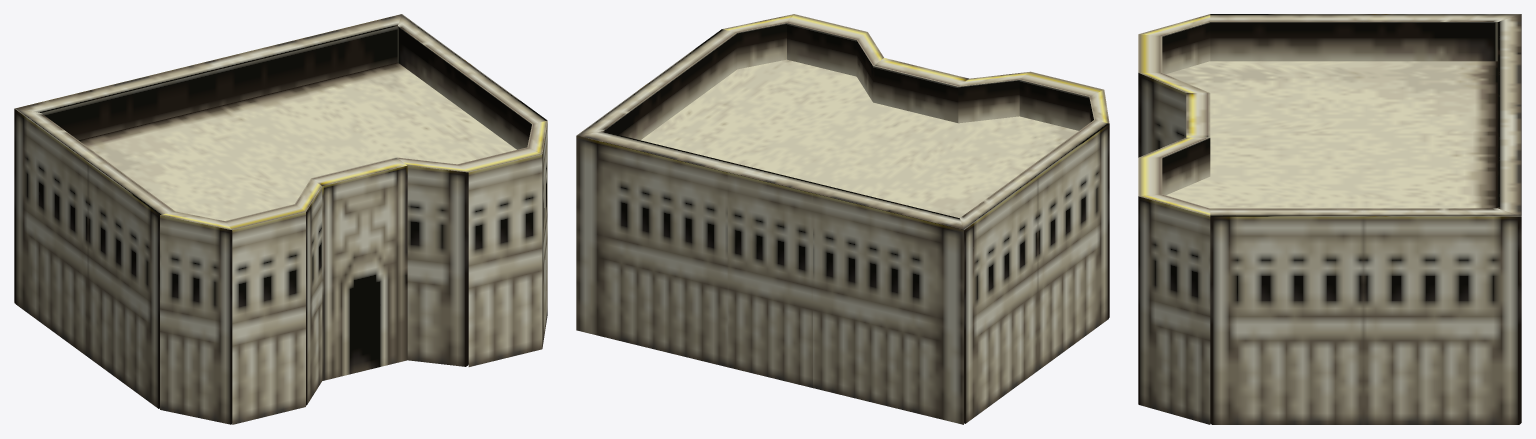
File: Poly_World_Map_Wall_Building_01.obj
3 views of the same model, side by side, from view 1: azimuth 30°, elevation 25°; view 2: azimuth 150°, elevation 25°; view 3: azimuth 270°, elevation 25° (orthographic). The views are drawn at different scales.
Visible parts, largest first — view 1: Grid.002; view 2: Grid.002; view 3: Grid.002.
Part boxes in pixels (x1=…): Grid.002: x1=14, y1=14, x2=547, y2=424; Grid.002: x1=576, y1=14, x2=1109, y2=424; Grid.002: x1=1138, y1=14, x2=1521, y2=424.
Size of the model in its own units: 1 by 0.48 by 0.8.
1 material, 1 textured.
